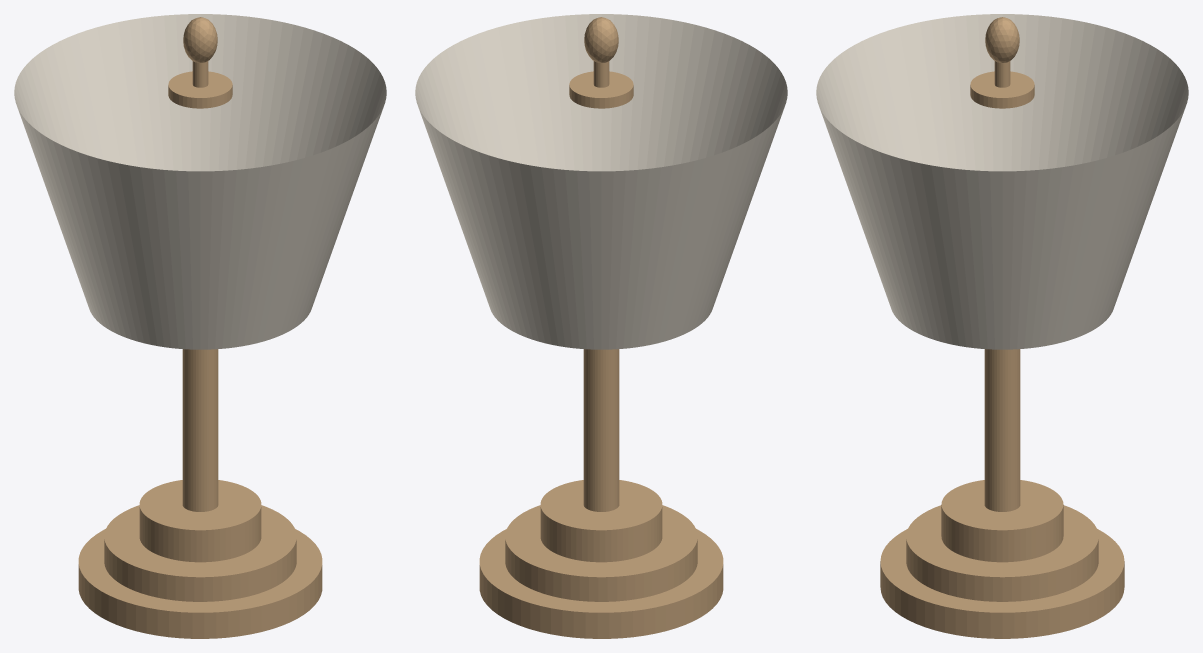
The model's file is w25-linen-bronze-table-lamp.glb.
3 renders of one model, left to right at view 1: azimuth 30°, elevation 25°; view 2: azimuth 150°, elevation 25°; view 3: azimuth 270°, elevation 25°, orthographic.
Parts seen in each view (by area): view 1: linen_shade, base_0.19, base_0.15, base_0.095, stem, shade_top_cap, finial; view 2: linen_shade, base_0.19, base_0.15, base_0.095, stem, shade_top_cap, finial; view 3: linen_shade, base_0.19, base_0.15, base_0.095, stem, shade_top_cap, finial.
Part boxes in pixels (left/top/right/bottom): linen_shade: left=14, top=14, right=386, bottom=349; base_0.19: left=78, top=529, right=322, bottom=638; base_0.15: left=104, top=505, right=296, bottom=601; base_0.095: left=139, top=480, right=261, bottom=562; stem: left=182, top=349, right=218, bottom=511; shade_top_cap: left=168, top=71, right=232, bottom=108; finial: left=183, top=17, right=217, bottom=62; linen_shade: left=415, top=14, right=787, bottom=349; base_0.19: left=479, top=529, right=723, bottom=638; base_0.15: left=505, top=505, right=697, bottom=601; base_0.095: left=540, top=480, right=662, bottom=562; stem: left=583, top=349, right=619, bottom=511; shade_top_cap: left=569, top=71, right=633, bottom=108; finial: left=584, top=17, right=618, bottom=62; linen_shade: left=816, top=14, right=1188, bottom=349; base_0.19: left=880, top=529, right=1124, bottom=638; base_0.15: left=906, top=505, right=1098, bottom=601; base_0.095: left=941, top=480, right=1063, bottom=562; stem: left=984, top=349, right=1020, bottom=511; shade_top_cap: left=970, top=71, right=1034, bottom=108; finial: left=985, top=17, right=1019, bottom=62.
Size of the model in its own units: 0.58 by 0.978 by 0.58.
